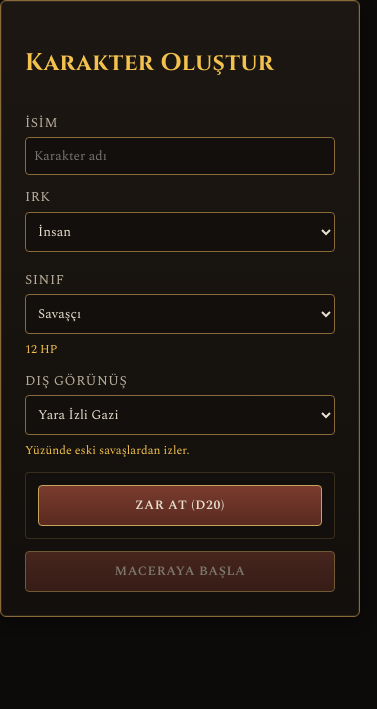
Scenario: CharacterCreation › zar atınca D20 sonuçları ekranda gösterilir ve rollStats doğru raceId ile çağrılır
Click the button "Zar At (D20)": point(180, 505) top-left (38, 485), bottom-right (322, 526)
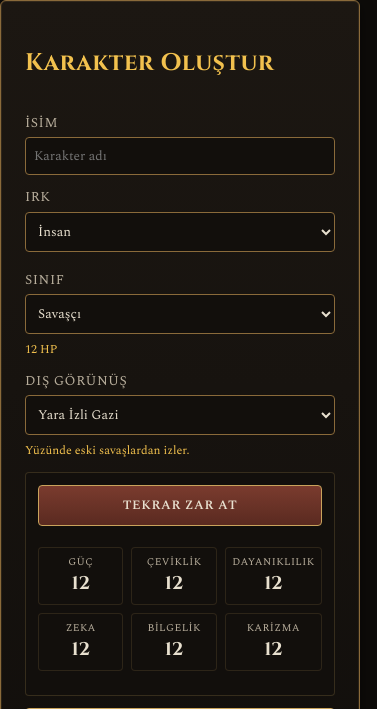
expect the text "12" below "GÜÇ" is shown: met, box top-left (71, 571), bottom-right (90, 596)
